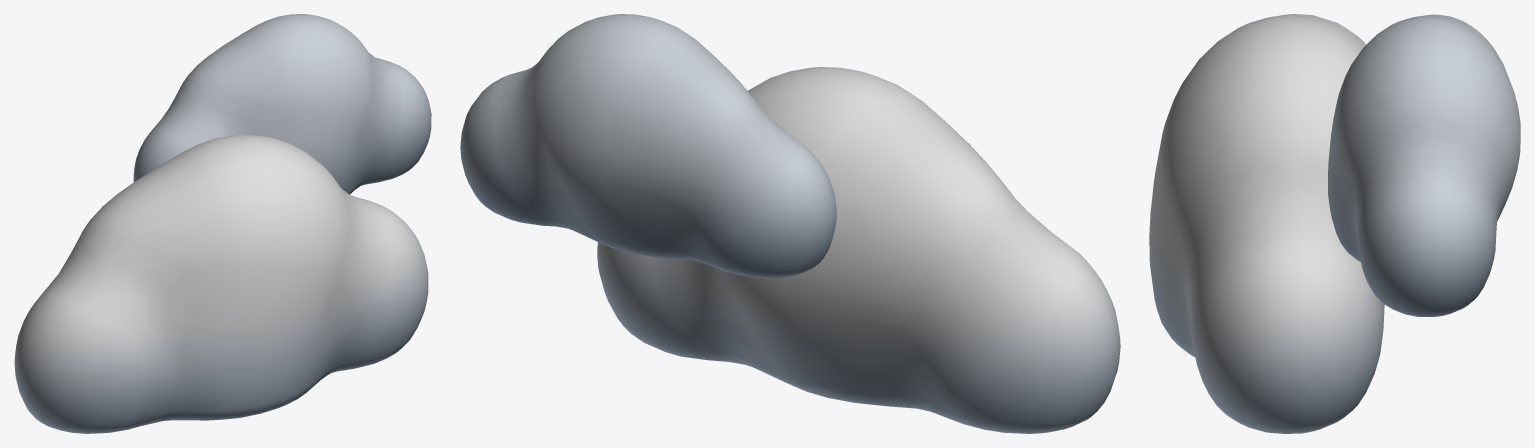
The model's file is cloudy.glb.
3 views of the same model, side by side, from view 1: azimuth 30°, elevation 25°; view 2: azimuth 150°, elevation 25°; view 3: azimuth 270°, elevation 25° (orthographic). The views are drawn at different scales.
Parts seen in each view (by area): view 1: cloud; view 2: cloud; view 3: cloud.
Part boxes in pixels (x1=…): cloud: x1=14, y1=14, x2=431, y2=433; cloud: x1=460, y1=14, x2=1120, y2=433; cloud: x1=1149, y1=14, x2=1520, y2=433.
Bounding box in the file's own units: 1.74 × 1.07 × 0.9299.
